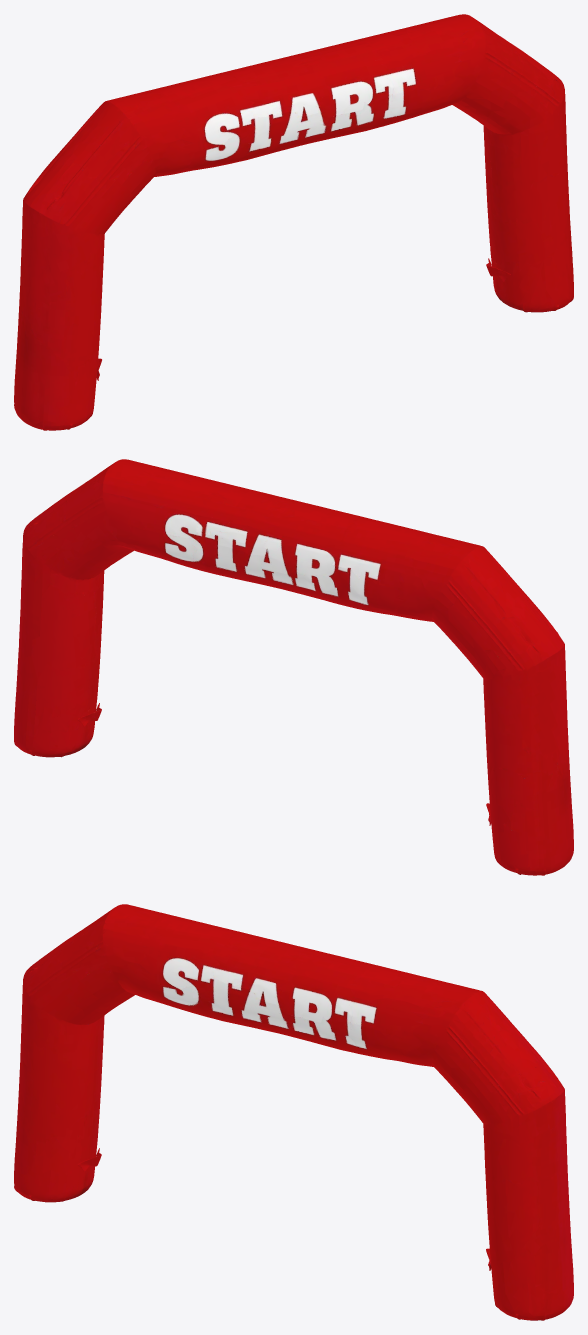
Rendered from race_arch.glb.
3 views of the same model, one above another, from view 1: azimuth 30°, elevation 25°; view 2: azimuth 150°, elevation 25°; view 3: azimuth 330°, elevation 25° (orthographic).
Bounding box in the file's own units: 1.9 × 0.9914 × 0.2638.
1 material, 1 textured.
